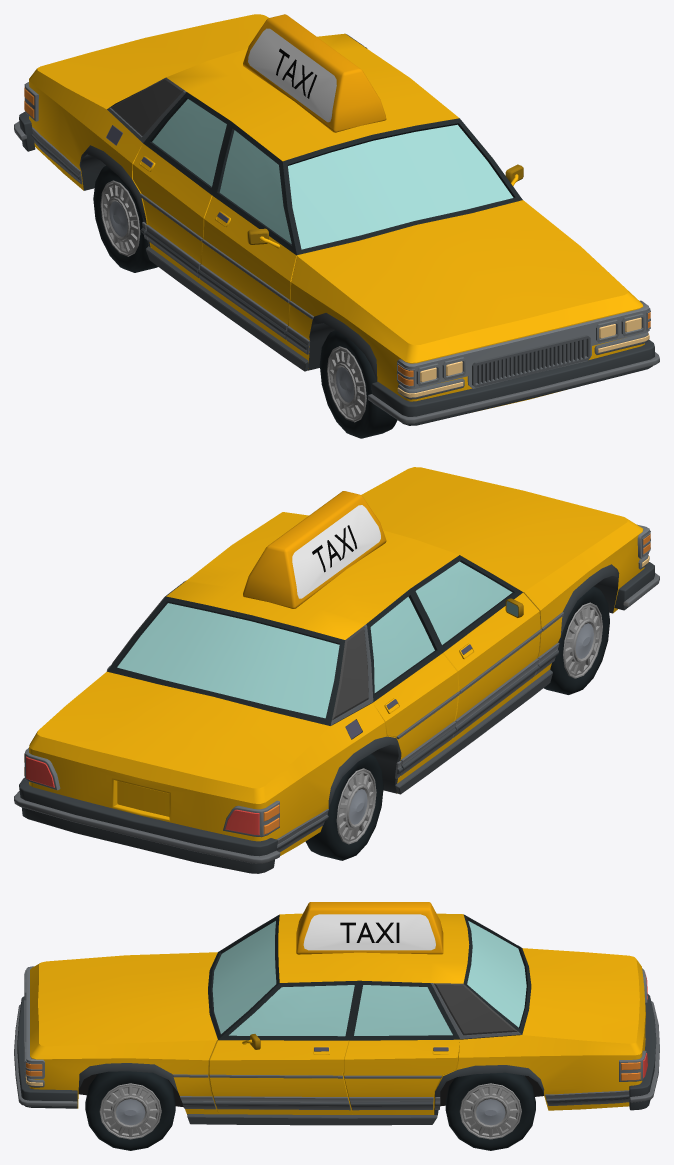
The model's file is SM_Vehicles_Taxi_01.fbx.
3 renders of one model, top to bottom at view 1: azimuth 30°, elevation 25°; view 2: azimuth 150°, elevation 25°; view 3: azimuth 270°, elevation 25°, orthographic. The views are drawn at different scales.
Parts seen in each view (by area): view 1: SM_Vehicles_Taxi_01, SM_Vehicles_Taxi_01_FR, SM_Vehicles_Taxi_01_RR; view 2: SM_Vehicles_Taxi_01, SM_Vehicles_Taxi_01_RR, SM_Vehicles_Taxi_01_FR; view 3: SM_Vehicles_Taxi_01, SM_Vehicles_Taxi_01_FL, SM_Vehicles_Taxi_01_RL.
Part boxes in pixels (x1=…): SM_Vehicles_Taxi_01: x1=14, y1=14, x2=659, y2=425; SM_Vehicles_Taxi_01_FR: x1=319, y1=330, x2=397, y2=438; SM_Vehicles_Taxi_01_RR: x1=93, y1=165, x2=157, y2=272; SM_Vehicles_Taxi_01: x1=14, y1=467, x2=659, y2=873; SM_Vehicles_Taxi_01_RR: x1=305, y1=754, x2=383, y2=860; SM_Vehicles_Taxi_01_FR: x1=544, y1=586, x2=609, y2=694; SM_Vehicles_Taxi_01: x1=14, y1=902, x2=659, y2=1125; SM_Vehicles_Taxi_01_FL: x1=85, y1=1071, x2=175, y2=1150; SM_Vehicles_Taxi_01_RL: x1=445, y1=1072, x2=535, y2=1150.
Bounding box in the file's own units: 1.92 × 1.7 × 4.93.
